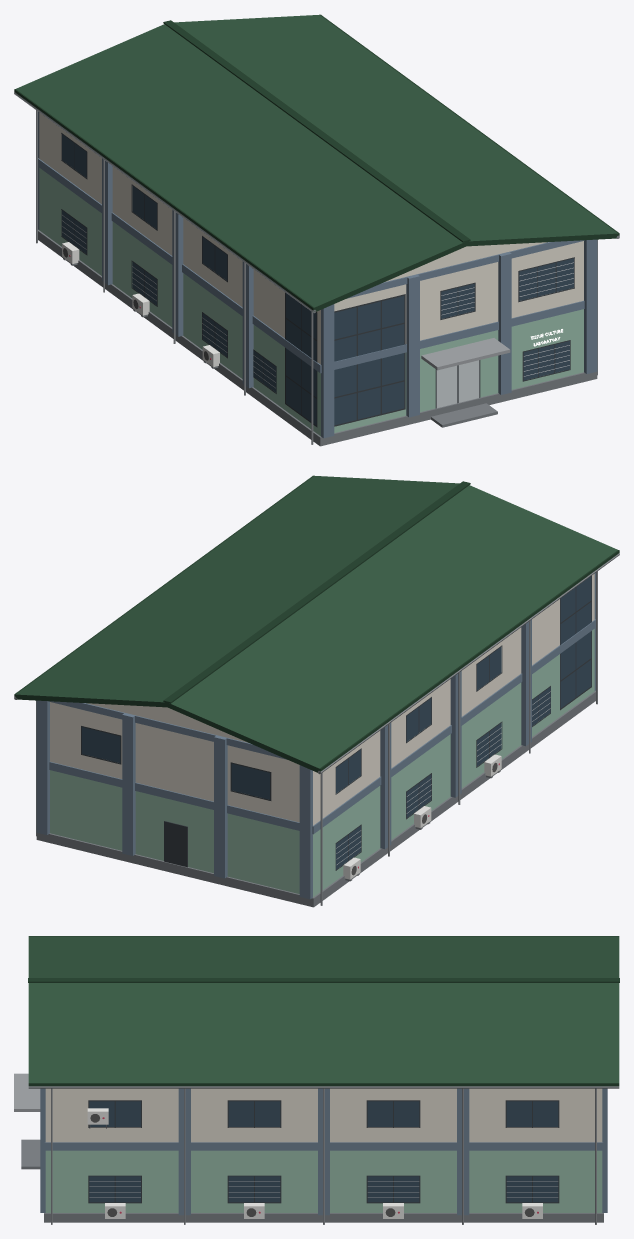
File: tissue_culture_building.glb
3 views of the same model, one above another, from view 1: azimuth 30°, elevation 25°; view 2: azimuth 150°, elevation 25°; view 3: azimuth 270°, elevation 25° (orthographic).
Parts seen in each view (by area): view 1: TC_Group_Mat_TC_Roof, TC_Group_Mat_TC_Glass_Tint, TC_Group_Mat_TC_BlueGrey, TC_Group_Mat_TC_Cream, TC_Group_Mat_TC_Mint, TC_Group_Mat_TC_Fascia, TC_Group_Mat_TC_Skirt, TC_Group_Mat_TC_Aluminum_Dark, TC_Group_Mat_TC_Downspout, TC_Group_Mat_TC_Glass_Door, TC_Group_Mat_TC_Canopy_Conc, TC_Group_Mat_TC_Grille_White (+1 smaller); view 2: TC_Group_Mat_TC_Roof, TC_Group_Mat_TC_Mint, TC_Group_Mat_TC_Cream, TC_Group_Mat_TC_BlueGrey, TC_Group_Mat_TC_Glass_Tint, TC_Group_Mat_TC_Fascia, TC_Group_Mat_TC_Skirt, TC_Group_Mat_TC_Aluminum_Dark, TC_Group_Mat_TC_Downspout, TC_Group_Mat_TC_AC_Body; view 3: TC_Group_Mat_TC_Roof, TC_Group_Mat_TC_Mint, TC_Group_Mat_TC_Cream, TC_Group_Mat_TC_Glass_Tint, TC_Group_Mat_TC_BlueGrey, TC_Group_Mat_TC_Fascia, TC_Group_Mat_TC_Skirt, TC_Group_Mat_TC_Downspout, TC_Group_Mat_TC_Aluminum_Dark, TC_Group_Mat_TC_AC_Body, TC_Group_Mat_TC_Canopy_Conc, TC_Group_Mat_TC_Grille_White.
Part boxes in pixels (x1,y1,x2,y2): TC_Group_Mat_TC_Roof: (16, 15, 617, 307); TC_Group_Mat_TC_Glass_Tint: (62, 134, 573, 425); TC_Group_Mat_TC_BlueGrey: (38, 112, 597, 438); TC_Group_Mat_TC_Cream: (39, 112, 583, 364); TC_Group_Mat_TC_Mint: (39, 168, 583, 436); TC_Group_Mat_TC_Fascia: (14, 14, 619, 312); TC_Group_Mat_TC_Skirt: (38, 229, 597, 446); TC_Group_Mat_TC_Aluminum_Dark: (61, 133, 574, 427); TC_Group_Mat_TC_Downspout: (14, 92, 619, 444); TC_Group_Mat_TC_Glass_Door: (436, 360, 479, 407); TC_Group_Mat_TC_Canopy_Conc: (421, 338, 510, 370); TC_Group_Mat_TC_Grille_White: (62, 215, 574, 388); TC_Group_Mat_TC_Roof: (16, 476, 617, 768); TC_Group_Mat_TC_Mint: (50, 629, 594, 897); TC_Group_Mat_TC_Cream: (50, 573, 594, 825); TC_Group_Mat_TC_BlueGrey: (36, 573, 595, 899); TC_Group_Mat_TC_Glass_Tint: (82, 576, 591, 869); TC_Group_Mat_TC_Fascia: (14, 475, 619, 773); TC_Group_Mat_TC_Skirt: (36, 690, 595, 907); TC_Group_Mat_TC_Aluminum_Dark: (81, 575, 591, 870); TC_Group_Mat_TC_Downspout: (14, 553, 619, 905); TC_Group_Mat_TC_AC_Body: (343, 754, 501, 879); TC_Group_Mat_TC_Roof: (28, 936, 619, 1082); TC_Group_Mat_TC_Mint: (45, 1150, 602, 1212); TC_Group_Mat_TC_Cream: (45, 1088, 602, 1142); TC_Group_Mat_TC_Glass_Tint: (89, 1101, 558, 1202); TC_Group_Mat_TC_BlueGrey: (40, 1088, 607, 1215); TC_Group_Mat_TC_Fascia: (28, 936, 619, 1086); TC_Group_Mat_TC_Skirt: (21, 1139, 603, 1222); TC_Group_Mat_TC_Downspout: (28, 1086, 619, 1224); TC_Group_Mat_TC_Aluminum_Dark: (88, 1100, 559, 1203); TC_Group_Mat_TC_AC_Body: (87, 1108, 542, 1218); TC_Group_Mat_TC_Canopy_Conc: (14, 1073, 40, 1111); TC_Group_Mat_TC_Grille_White: (89, 1181, 557, 1197).
Size of the model in its own units: 14.36 by 7.96 by 24.83.
